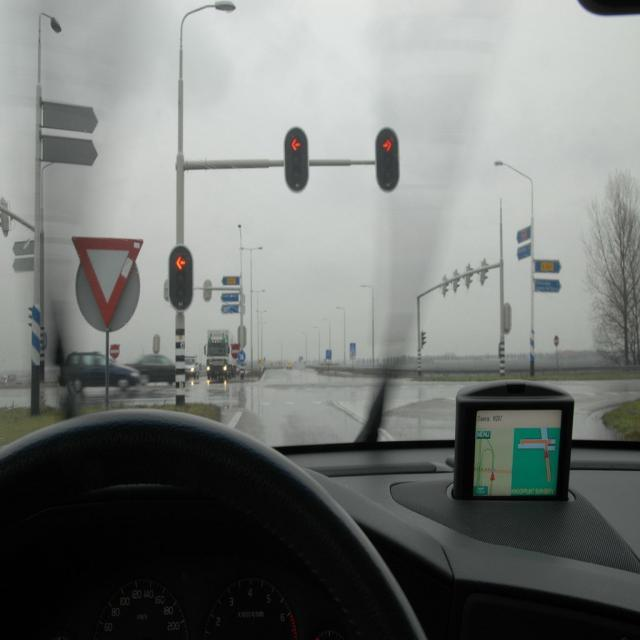traffic light: (284, 127, 312, 192), (168, 247, 197, 308), (375, 128, 401, 189)
